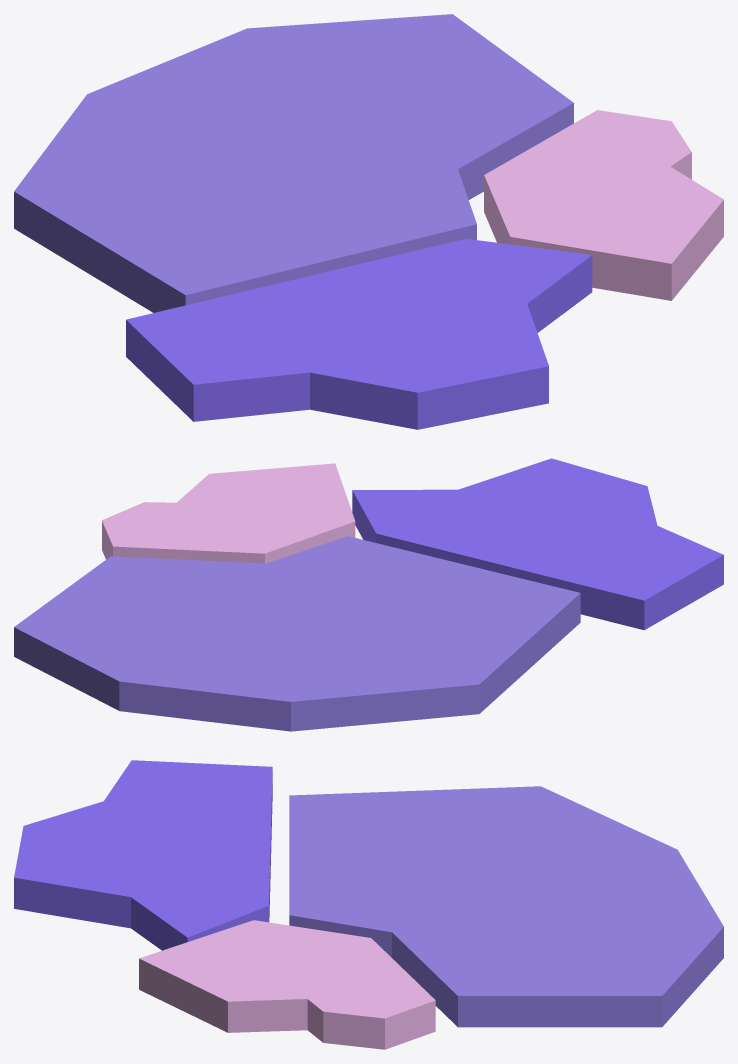
Rendered from NC_Stone08.fbx.
The picture shows the model from 3 angles, top to bottom: view 1: azimuth 30°, elevation 25°; view 2: azimuth 150°, elevation 25°; view 3: azimuth 270°, elevation 25°; orthographic projection. The views are drawn at different scales.
Visible parts, largest first — view 1: NC_Stone08; view 2: NC_Stone08; view 3: NC_Stone08.
Part boxes in pixels (x1,y1,x2,y2): NC_Stone08: (14,14,723,429); NC_Stone08: (14,458,723,731); NC_Stone08: (14,760,723,1049).
Bounding box in the file's own units: 71.3 × 4.02 × 82.82.
Materials: 1 (1 with a texture image).
